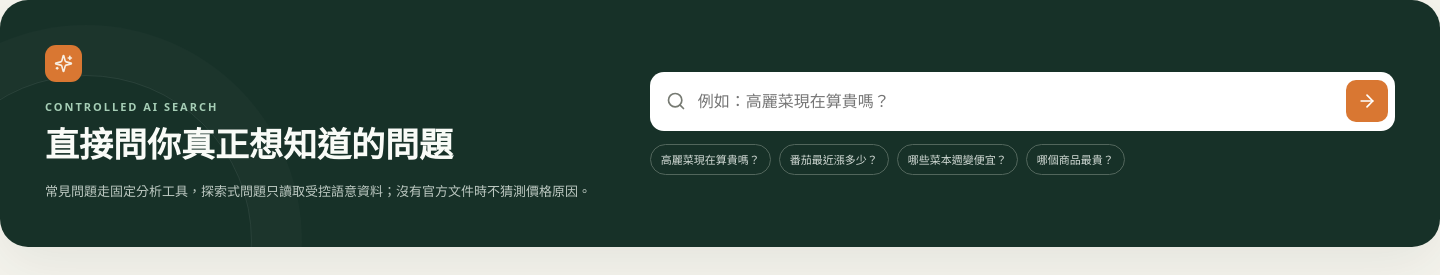
Test: AiSearch Phase 5 › shows an honest service error
This screenshot has width=1440, height=275.
Step 1. Type "哪個商品最貴？" into the field named "輸入價格問題" → (1016, 101), box [696,79,1336,124]
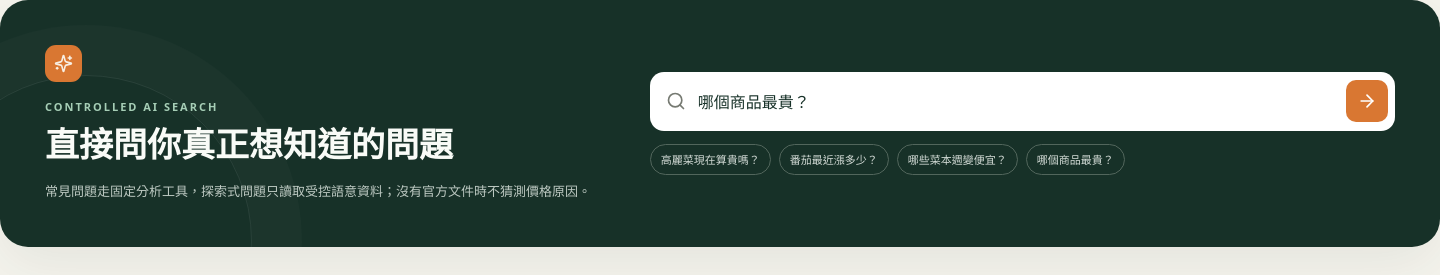
Step 2. Click the button named "送出問題" → (1367, 101), box [1346,80,1388,122]
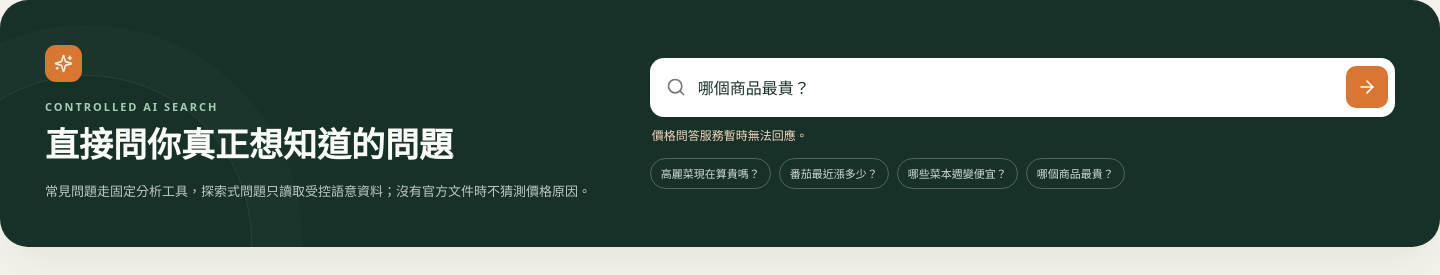
Now the message shows "暫時無法回應", box [652,126,808,144]
